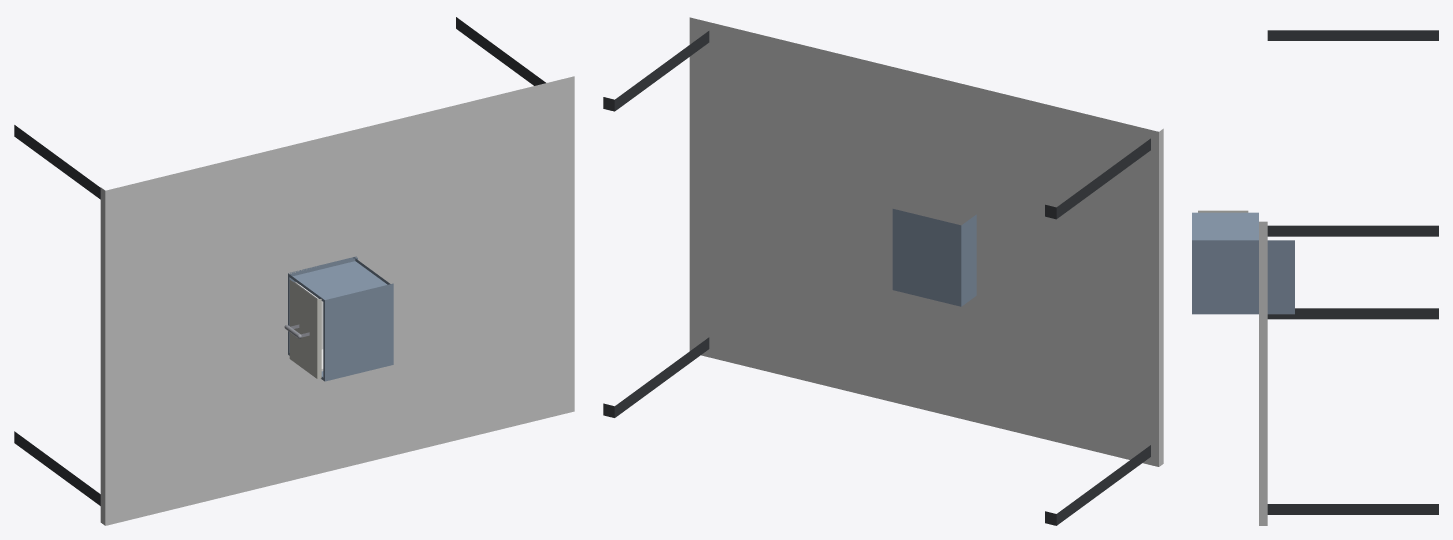
The picture shows the model from 3 angles, left to right: view 1: azimuth 30°, elevation 25°; view 2: azimuth 150°, elevation 25°; view 3: azimuth 270°, elevation 25°; orthographic projection. The views are drawn at different scales.
Parts seen in each view (by area): view 1: s0, s1, s2; view 2: s0, s1; view 3: s0, s1.
Boxes of the visible parts, x1,y1,x2,y2 form: s0: (14,17,574,525); s1: (288,256,393,381); s2: (284,280,323,379); s0: (603,17,1163,525); s1: (892,209,976,306); s0: (1259,30,1438,525); s1: (1192,212,1294,314).
Bounding box in the file's own units: 2.05 × 1.4 × 1.03.
